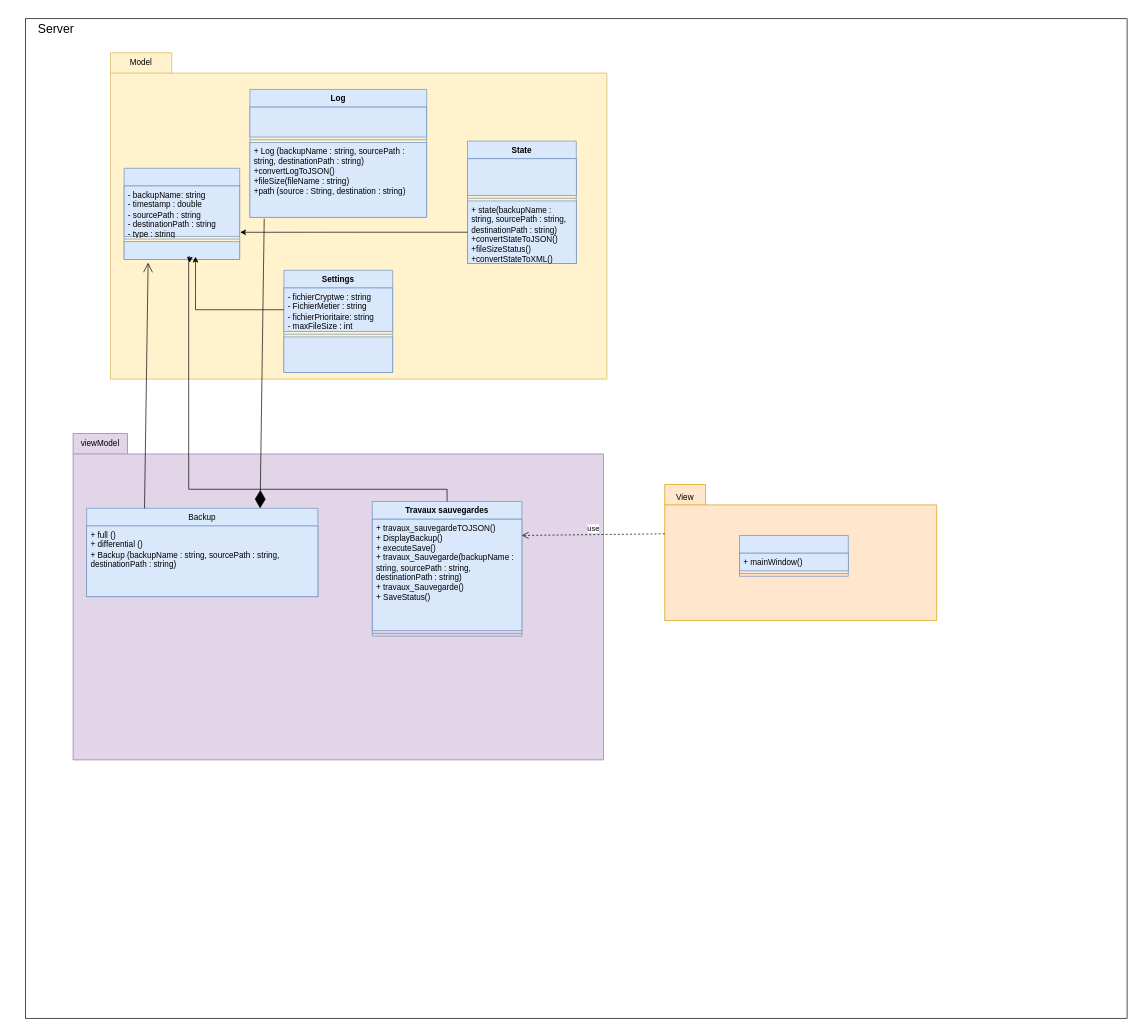
Image size: 1139x1030. Some labels were removed from this diagram. The shapes that lost their labels are listed below. From the top down, each one's box as (x1, y1, x2, y2) in pixels, then its label:
(249, 106, 427, 137): - fileSize : String -TimeTransferFile :double
(467, 158, 576, 196): + stateSave : String - totalFile : int - totalFileSize : double
(123, 168, 240, 259): file
(123, 241, 240, 259): + save ()
(283, 336, 393, 372): + convertSettingsToJSON() + convertSettingsToXML()
(739, 535, 848, 576): interface
